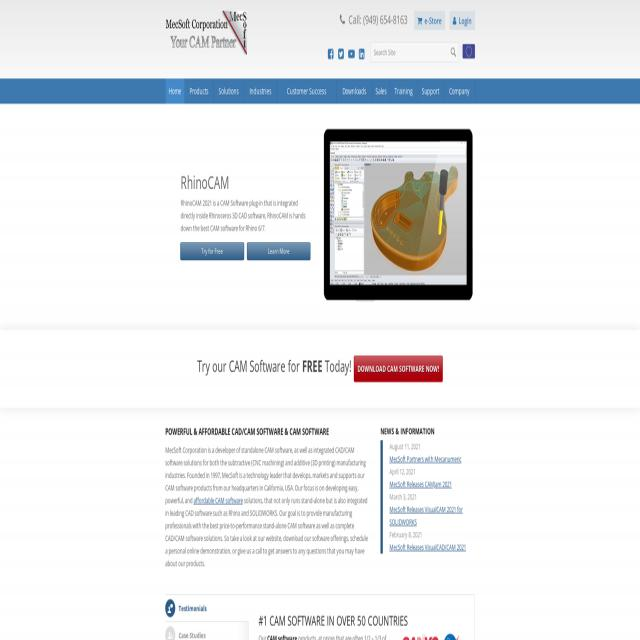button: (324, 128, 472, 300), (165, 11, 247, 55), (353, 356, 442, 382), (278, 79, 336, 104), (180, 242, 244, 260), (247, 242, 310, 260), (337, 79, 373, 104), (244, 79, 277, 104), (214, 79, 244, 104), (444, 79, 474, 104), (185, 79, 213, 104), (390, 79, 417, 104), (417, 79, 444, 104), (414, 10, 445, 29), (449, 11, 475, 30), (166, 79, 184, 104), (372, 79, 390, 104), (447, 42, 459, 62), (462, 44, 475, 59), (166, 599, 176, 618), (164, 627, 176, 640), (327, 49, 334, 60), (358, 49, 365, 60), (338, 48, 344, 60), (348, 50, 355, 59)
field: (370, 42, 458, 62)
